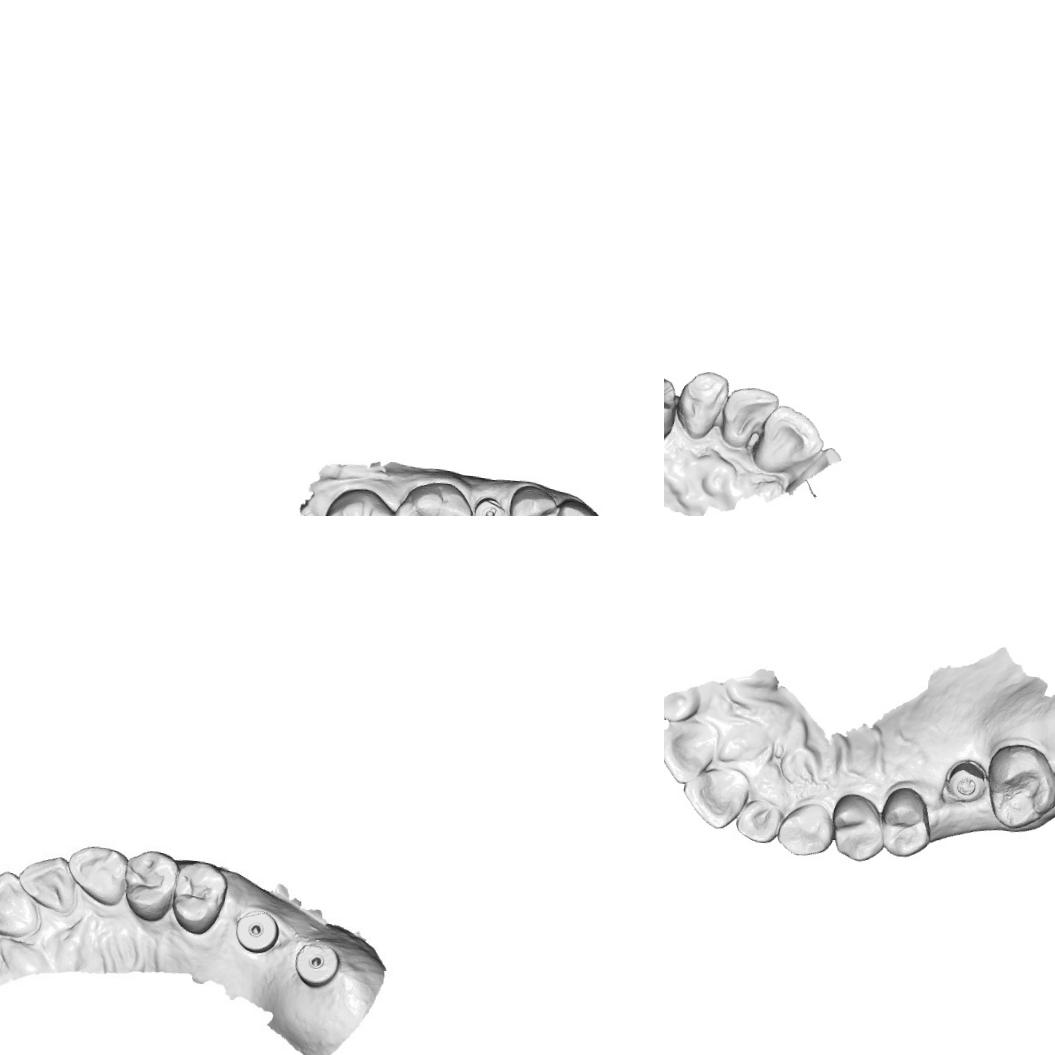canine: (672, 366, 732, 444), (63, 841, 132, 908), (775, 800, 835, 859), (550, 495, 604, 516)
implant: (290, 937, 342, 993), (232, 905, 278, 956), (944, 761, 986, 800)
implant_minus: (471, 495, 506, 516)
incisor: (748, 400, 828, 478), (12, 851, 80, 917), (718, 382, 782, 452), (678, 768, 748, 832), (664, 714, 717, 788), (0, 864, 43, 940), (732, 793, 782, 846)
molar: (982, 740, 1055, 832), (392, 478, 475, 516), (317, 483, 404, 516)
premolar: (167, 856, 229, 938), (119, 846, 177, 925), (828, 790, 888, 864), (877, 784, 933, 860), (505, 482, 559, 516), (664, 366, 681, 447)
